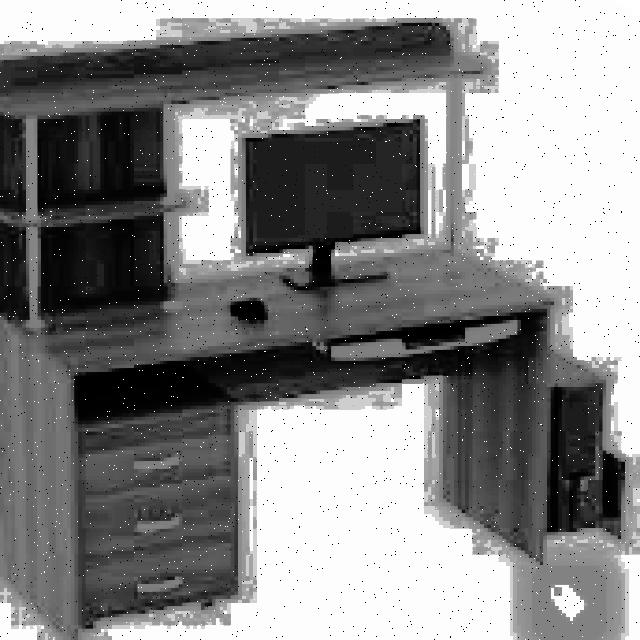table: (0, 15, 562, 640)
